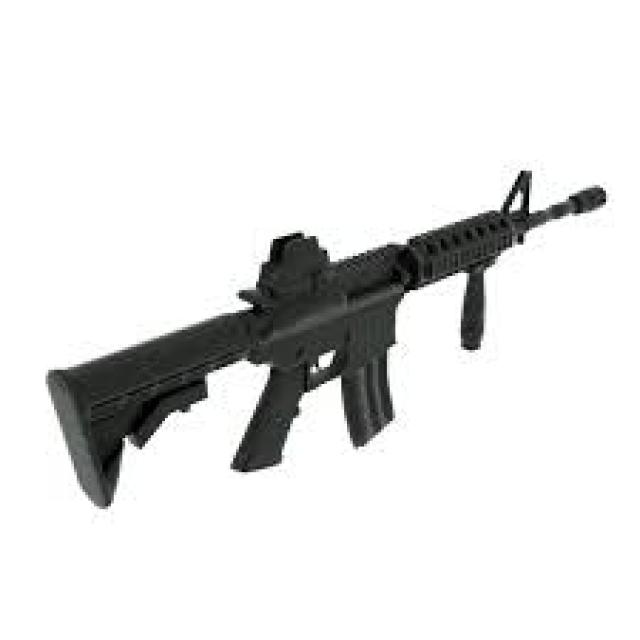rifle: (43, 156, 614, 521)
